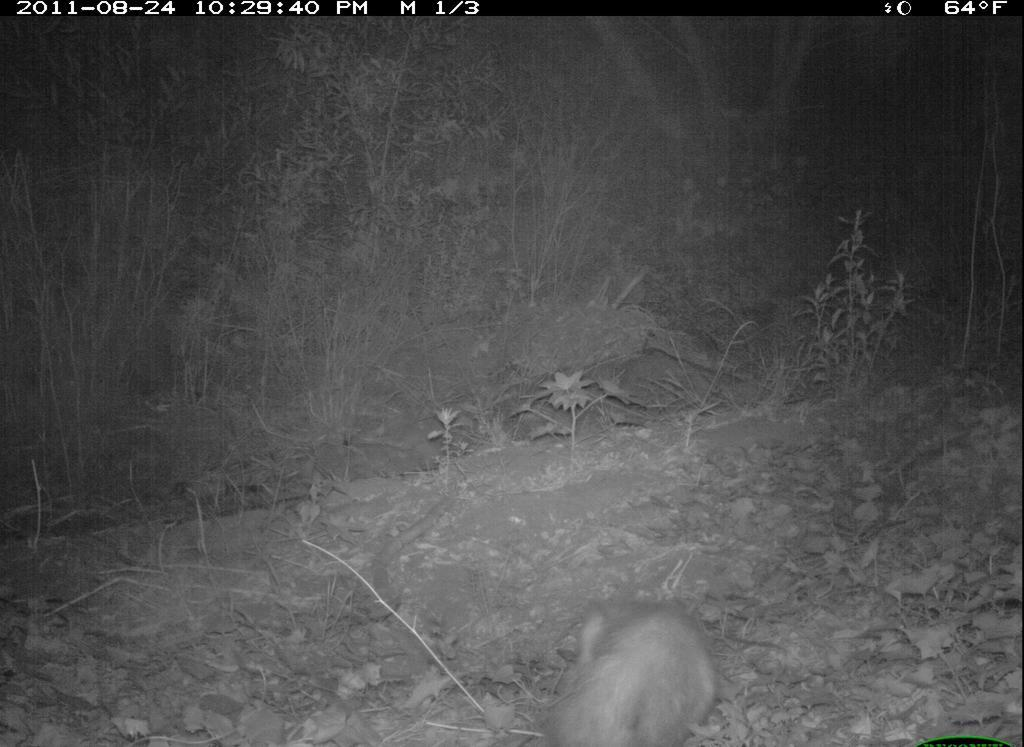opossum: (538, 587, 744, 747)
